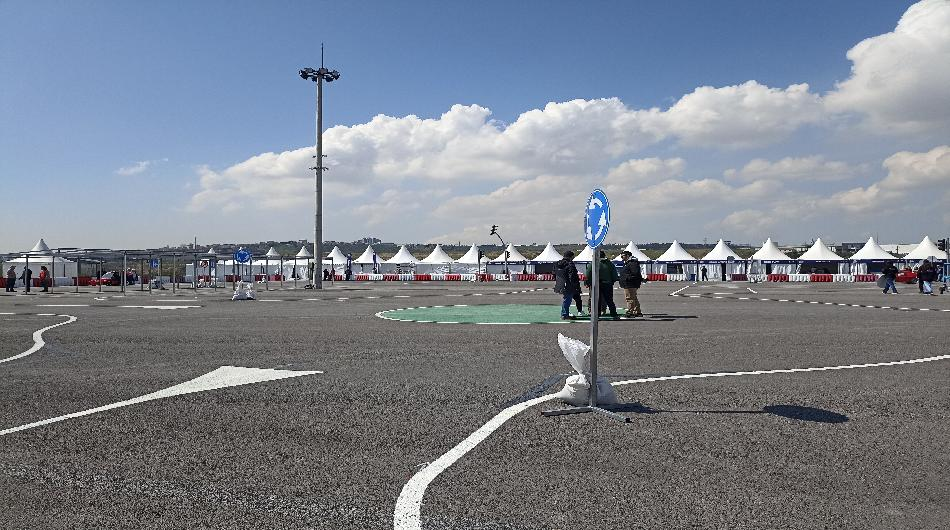ada: (579, 186, 614, 249)
